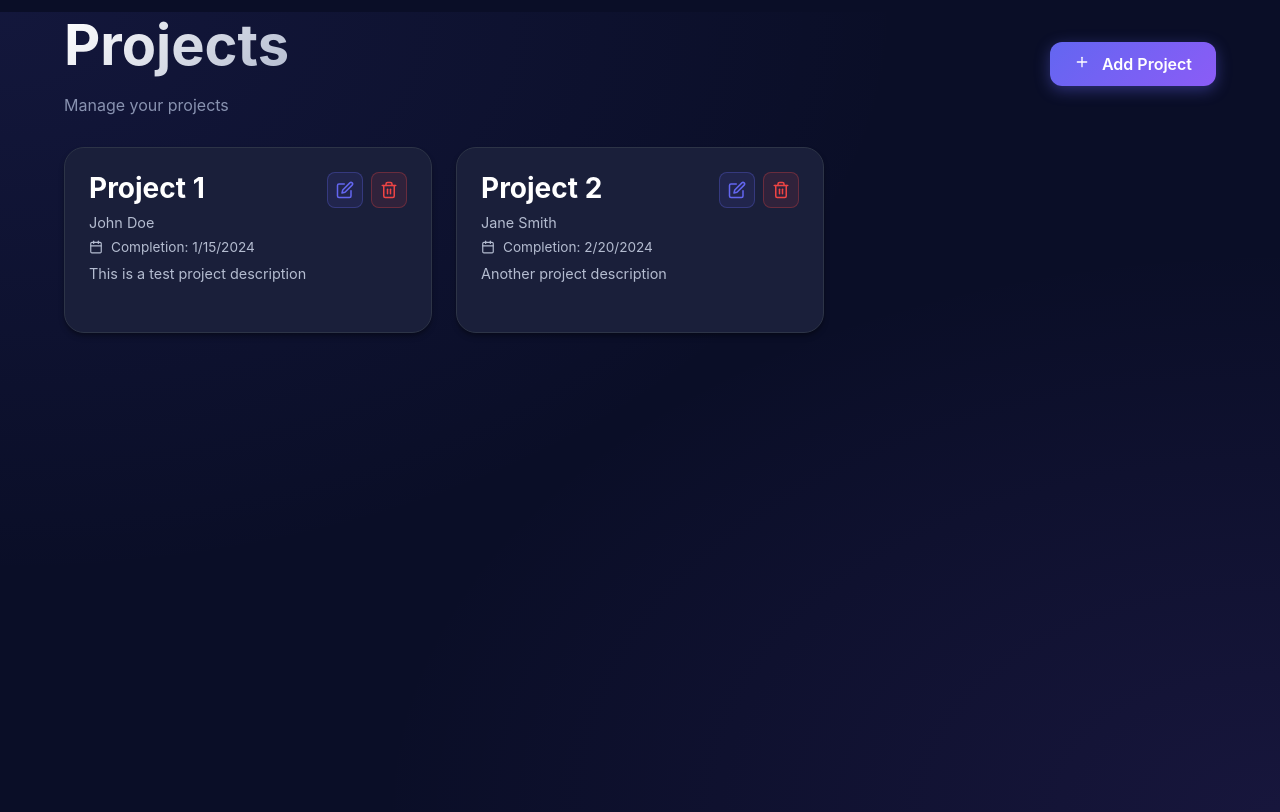
Scenario: ProjectsList › allows admin to delete a project
Check: the heading "Project 1" is shown, box [89,171,205,205]
// Find delete button (using title attribute or icon)
Click the button titled "Delete" in the row of "Project 1".
click(389, 190)  # box [371,172,407,208]
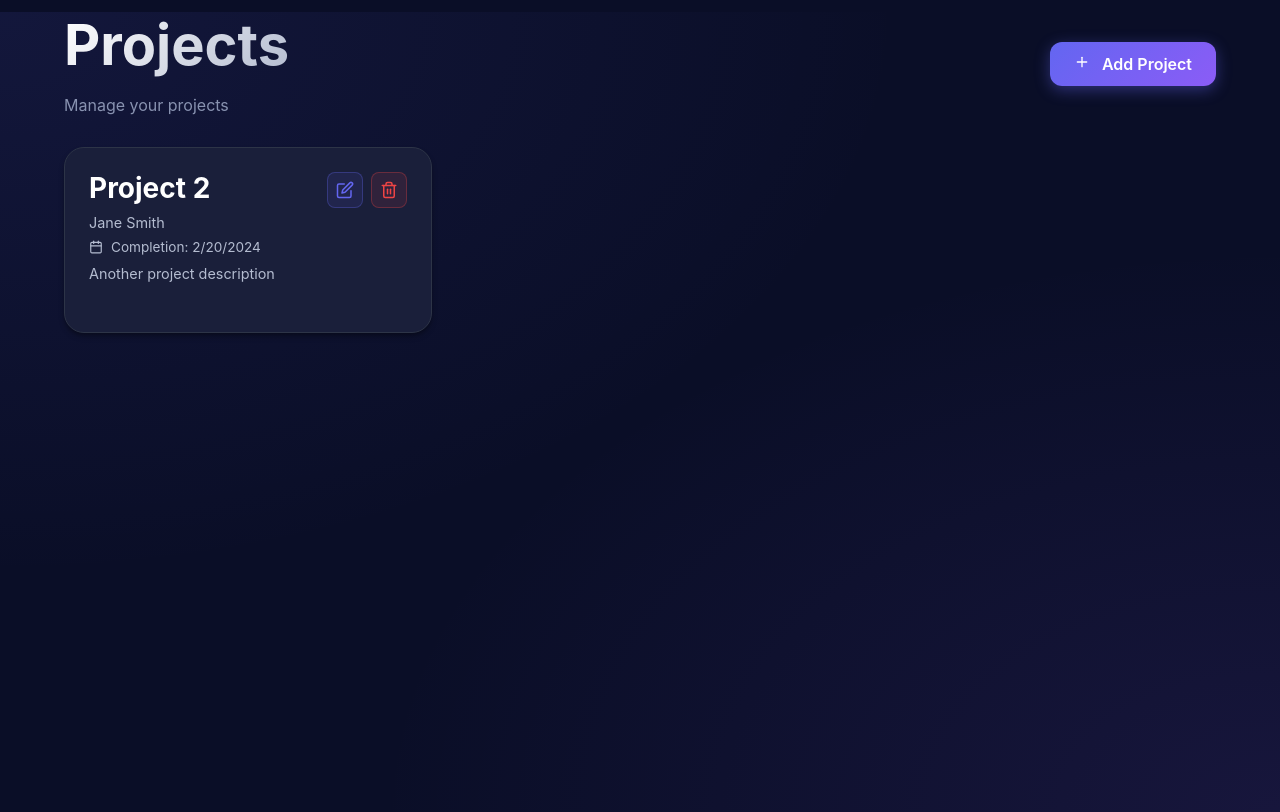
Check: the heading "Project 1" is gone
